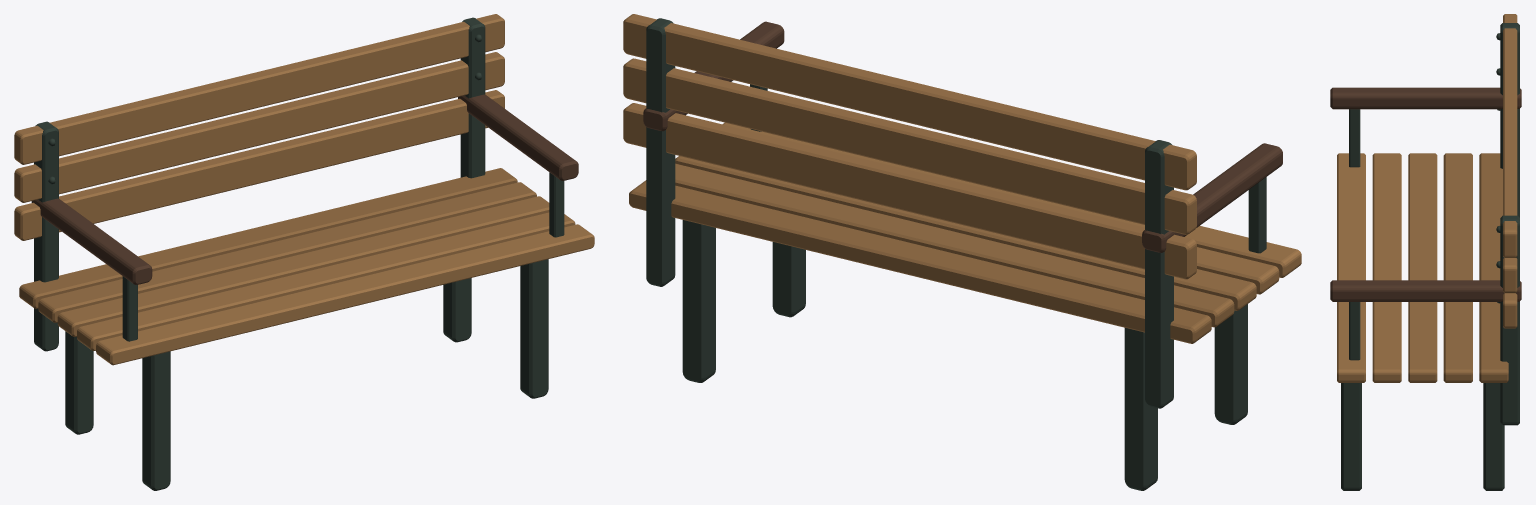
File: bench.glb
3 views of the same model, side by side, from view 1: azimuth 30°, elevation 25°; view 2: azimuth 150°, elevation 25°; view 3: azimuth 270°, elevation 25° (orthographic). The views are drawn at different scales.
Parts seen in each view (by area): view 1: SeatSlat (×5), BackSlat (×3), Leg (×4), Armrest (×2), BackSupport (×2), ArmSupport (×2); view 2: BackSlat (×3), SeatSlat (×5), Leg (×4), BackSupport (×2), Armrest (×2), ArmSupport; view 3: SeatSlat (×5), Armrest (×2), BackSlat (×3), Leg (×2), BackSupport (×2), ArmSupport (×2).
Part boxes in pixels (box(x1,y1,x2,y2)): SeatSlat (×5): box(19, 168, 594, 365); BackSlat (×3): box(14, 14, 504, 240); Leg (×4): box(65, 259, 548, 490); Armrest (×2): box(31, 94, 578, 284); BackSupport (×2): box(34, 17, 485, 351); ArmSupport (×2): box(122, 172, 564, 341); BackSlat (×3): box(623, 14, 1196, 279); SeatSlat (×5): box(629, 122, 1301, 343); Leg (×4): box(682, 220, 1247, 490); BackSupport (×2): box(646, 18, 1173, 408); Armrest (×2): box(643, 21, 1282, 252); ArmSupport: box(1248, 177, 1266, 253); SeatSlat (×5): box(1337, 153, 1508, 382); Armrest (×2): box(1330, 87, 1521, 301); BackSlat (×3): box(1503, 14, 1517, 328); Leg (×2): box(1341, 383, 1504, 490); BackSupport (×2): box(1500, 23, 1519, 425); ArmSupport (×2): box(1349, 109, 1360, 360).
Size of the model in its own units: 1.6 by 0.96 by 0.59.
